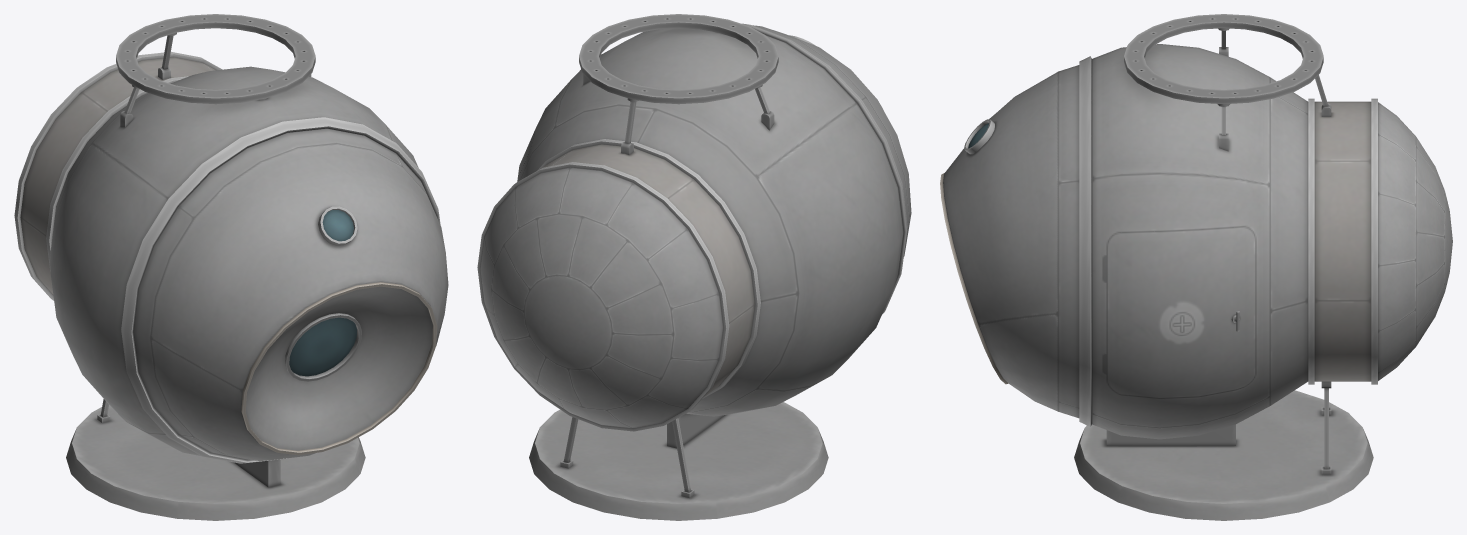
Rendered from Libra_Crew_1.obj.
3 views of the same model, side by side, from view 1: azimuth 30°, elevation 25°; view 2: azimuth 150°, elevation 25°; view 3: azimuth 270°, elevation 25° (orthographic).
Visible parts, largest first — view 1: Libra_Crew_1, Libra_Crew_1_Windows; view 2: Libra_Crew_1; view 3: Libra_Crew_1.
Boxes of the visible parts, x1,y1,x2,y2 form: Libra_Crew_1: [14, 14, 448, 520]; Libra_Crew_1_Windows: [289, 210, 356, 376]; Libra_Crew_1: [477, 14, 911, 520]; Libra_Crew_1: [940, 14, 1452, 520].
Bounding box in the file's own units: 1.24 × 1.39 × 1.6.
